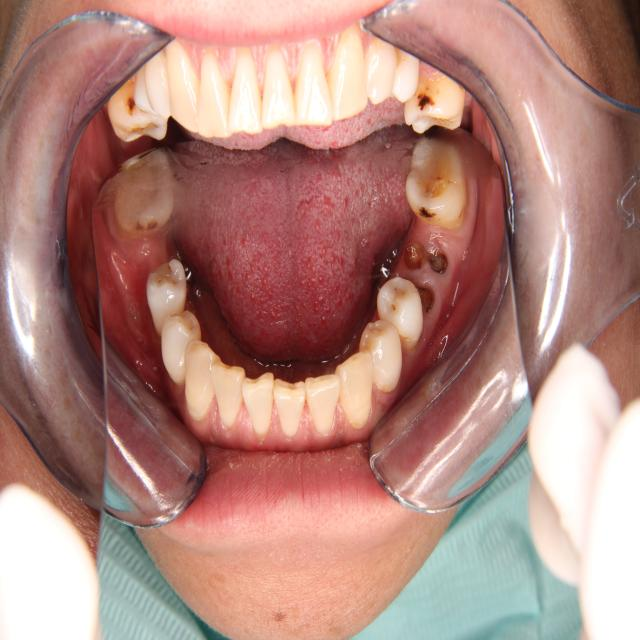tooth: (398, 127, 470, 231), (109, 147, 181, 240), (370, 273, 429, 357), (143, 249, 192, 340), (180, 333, 225, 425), (160, 307, 207, 395), (329, 346, 377, 430), (357, 317, 407, 395), (238, 363, 280, 444), (209, 351, 249, 436), (270, 370, 308, 442), (304, 370, 342, 437)
